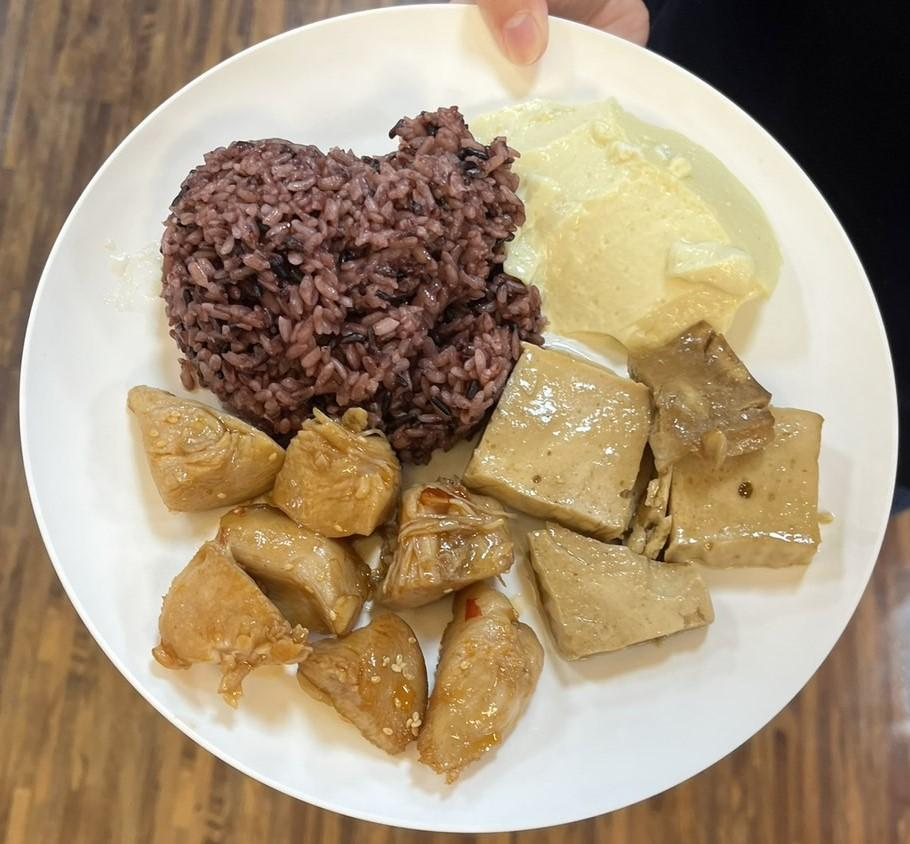big fried chicken leg: (12, 8, 910, 830)
braised fish: (161, 96, 534, 450)
braised fish fillet: (474, 318, 827, 664), (508, 88, 777, 352)
braised pork: (116, 382, 545, 774)
